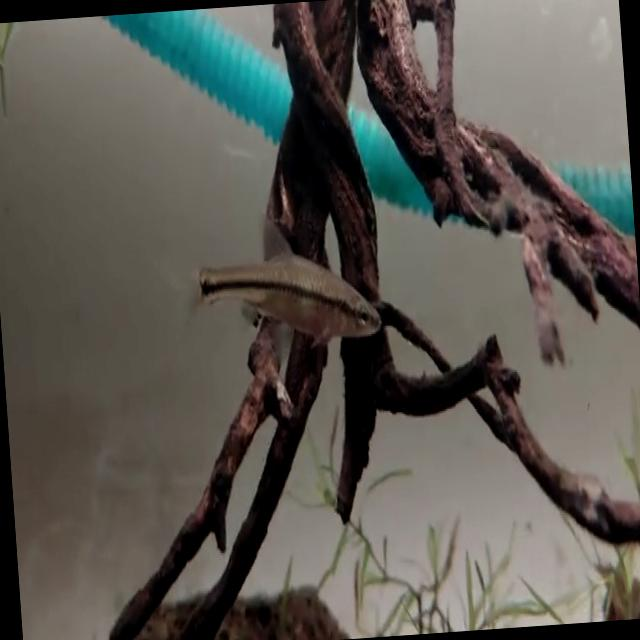Cakil Baligi: (194, 240, 382, 358)
